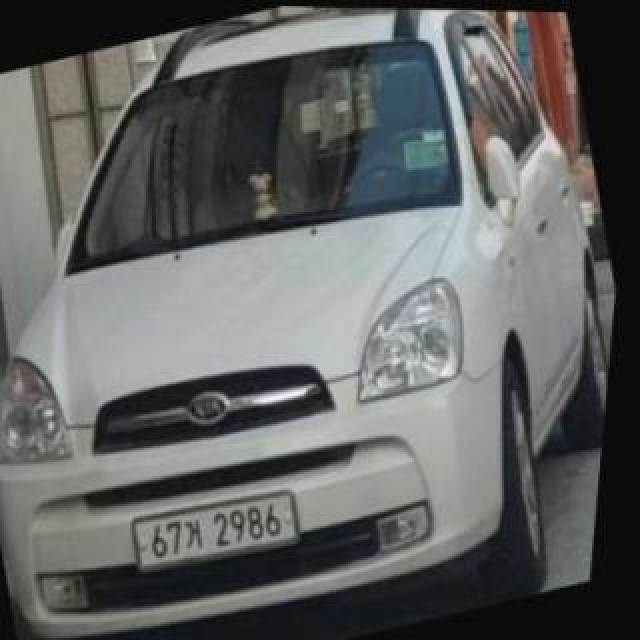car: (0, 3, 608, 619)
illegal_plate: (129, 488, 300, 575)
